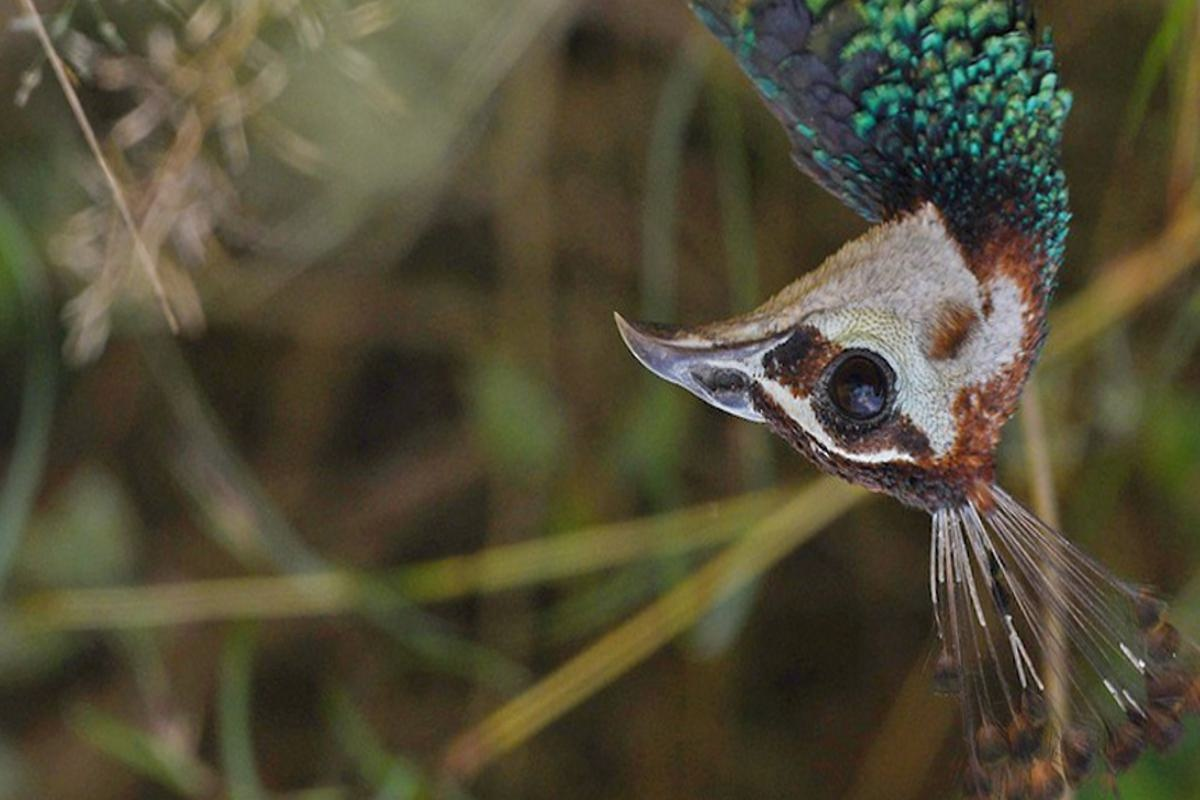peacock: (576, 1, 1109, 776)
